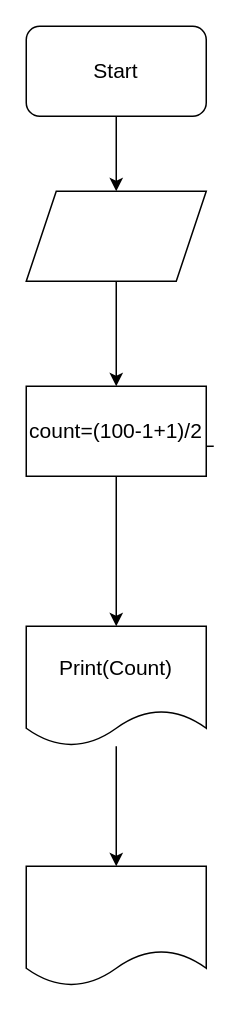
Image size: 252x1013. Some labels were removed from this diagram. Here are the shapes that lost their labels. From the top down, the box of each, then its label:
(25, 190, 206, 281): Count
(25, 865, 206, 986): END
